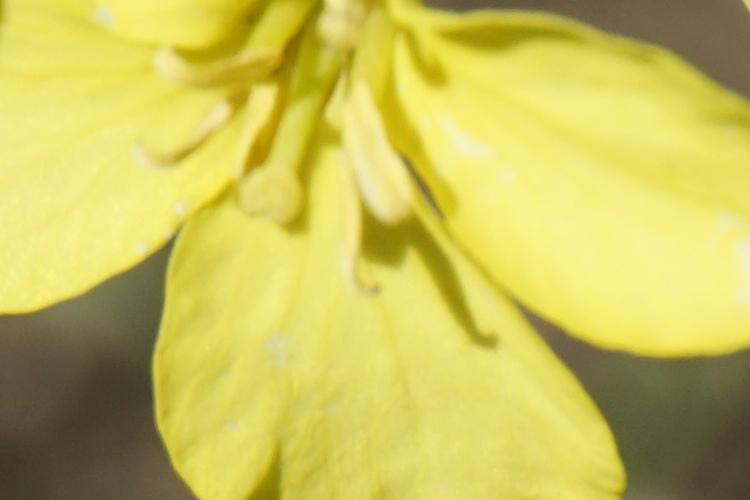yellow: (12, 3, 750, 497)
